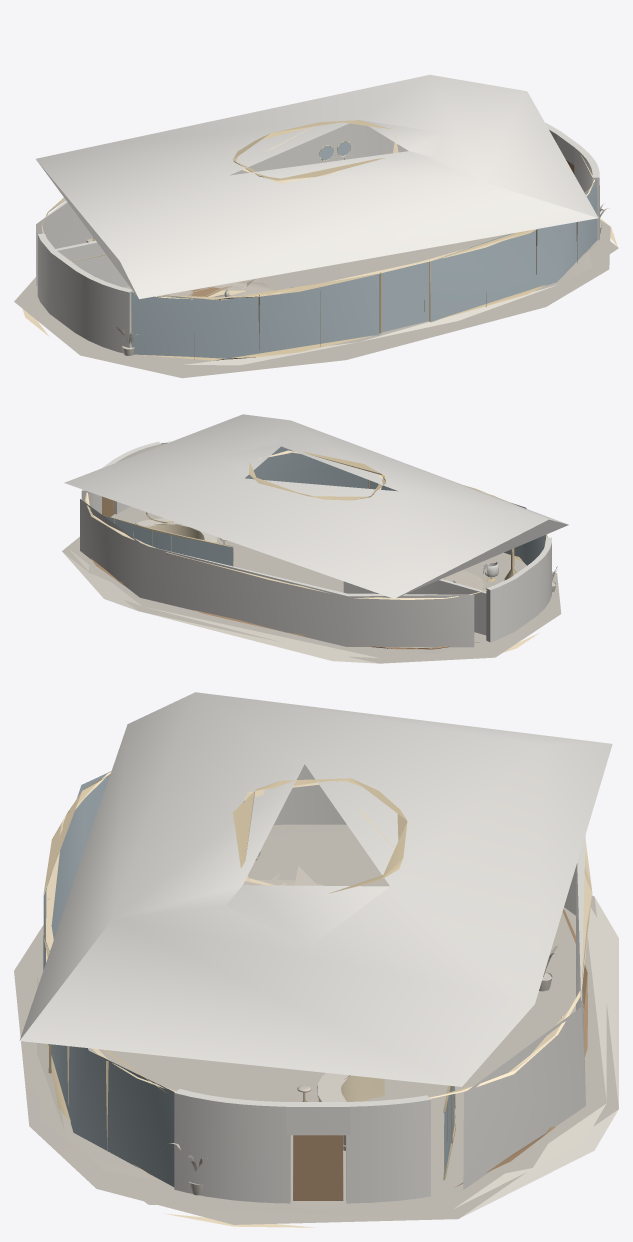
File: Nocturne_LOD2.dae
3 renders of one model, top to bottom at view 1: azimuth 30°, elevation 25°; view 2: azimuth 150°, elevation 25°; view 3: azimuth 270°, elevation 25°, orthographic. The views are drawn at different scales.
Visible parts, largest first — view 1: Nocturne_Roof_LOD2, Nocturne_Glass_S_LOD2, Nocturne_Floor_LOD2, Nocturne_Wall_W_LOD2, Nocturne_Wall_N_LOD2, Nocturne_Door_S_LOD2, Nocturne_Wall_E_LOD2, Nocturne_Partition_LOD2, Nocturne_Sofa_LOD2, Nocturne_Rug_LOD2; view 2: Nocturne_Roof_LOD2, Nocturne_Wall_N_LOD2, Nocturne_Floor_LOD2, Nocturne_Wall_W_LOD2, Nocturne_Glass_S_LOD2, Nocturne_Bath_Screen_LOD2, Nocturne_Partition_LOD2, Nocturne_Bar_LOD2, Nocturne_Wall_E_LOD2, Nocturne_Rug_LOD2; view 3: Nocturne_Roof_LOD2, Nocturne_Floor_LOD2, Nocturne_Wall_E_LOD2, Nocturne_Glass_S_LOD2, Nocturne_Wall_N_LOD2, Nocturne_Door_E_LOD2, Nocturne_Wall_W_LOD2, Nocturne_Bar_LOD2, Nocturne_Bath_Screen_LOD2.
Boxes of the visible parts, x1,y1,x2,y2 form: Nocturne_Roof_LOD2: (36,74,598,299); Nocturne_Glass_S_LOD2: (131,179,597,360); Nocturne_Floor_LOD2: (14,218,618,378); Nocturne_Wall_W_LOD2: (37,233,132,353); Nocturne_Wall_N_LOD2: (36,120,408,286); Nocturne_Door_S_LOD2: (379,260,430,333); Nocturne_Wall_E_LOD2: (545,123,599,240); Nocturne_Partition_LOD2: (55,240,128,287); Nocturne_Sofa_LOD2: (175,279,254,296); Nocturne_Rug_LOD2: (163,279,273,296); Nocturne_Roof_LOD2: (64,414,568,599); Nocturne_Wall_N_LOD2: (80,499,481,649); Nocturne_Floor_LOD2: (62,506,561,663); Nocturne_Wall_W_LOD2: (486,537,551,642); Nocturne_Glass_S_LOD2: (161,441,547,565); Nocturne_Bath_Screen_LOD2: (102,514,233,566); Nocturne_Partition_LOD2: (343,579,486,635); Nocturne_Bar_LOD2: (135,518,217,542); Nocturne_Wall_E_LOD2: (81,441,161,514); Nocturne_Rug_LOD2: (443,570,484,590); Nocturne_Roof_LOD2: (19,692,612,1098); Nocturne_Floor_LOD2: (14,824,618,1227); Nocturne_Wall_E_LOD2: (174,1089,430,1203); Nocturne_Glass_S_LOD2: (43,771,174,1186); Nocturne_Wall_N_LOD2: (454,835,587,1189); Nocturne_Door_E_LOD2: (293,1135,343,1200); Nocturne_Wall_W_LOD2: (273,764,346,825); Nocturne_Bar_LOD2: (317,1073,384,1150); Nocturne_Bath_Screen_LOD2: (443,1085,455,1180).
Size of the model in its own units: 27.44 by 17.28 by 6.03.
